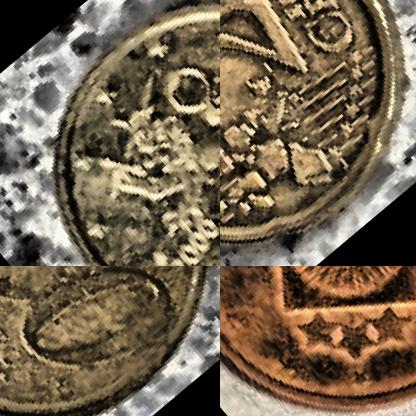coin: (0, 0, 219, 265), (220, 0, 415, 265), (0, 266, 219, 415), (220, 266, 415, 415)
